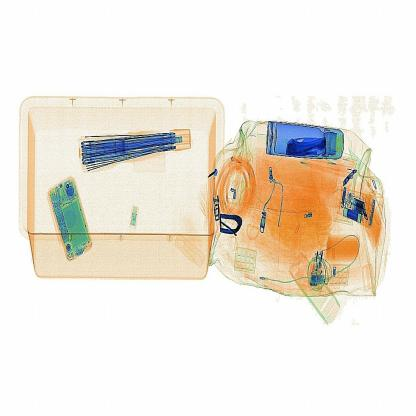knife: (286, 136, 328, 164)
